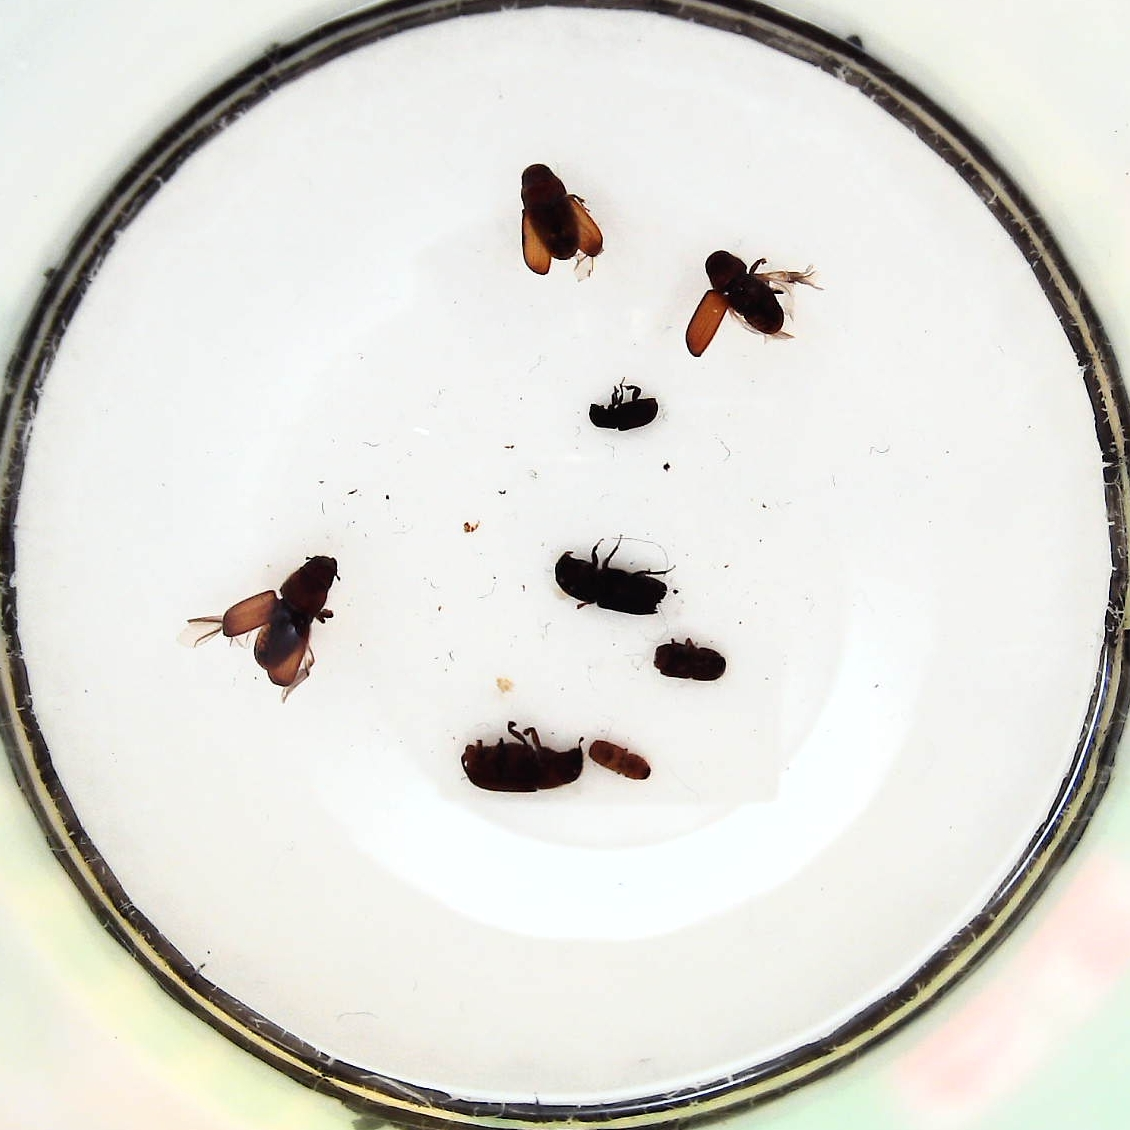Boerner: (555, 539, 670, 618)
Leconte: (222, 554, 341, 696), (686, 247, 789, 364), (512, 159, 606, 275), (452, 724, 586, 791)
Linnaeus: (650, 634, 727, 685)
acuminatus: (586, 737, 653, 785)
armandi: (589, 380, 658, 432)
